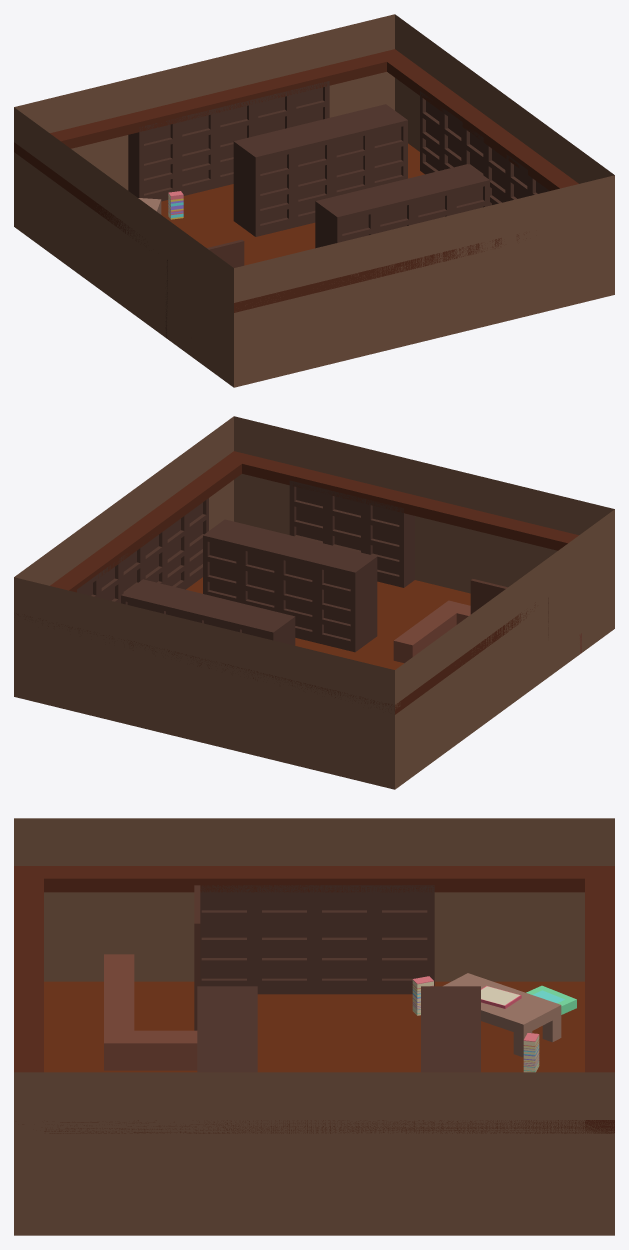
The model's file is Library.fbx.
3 renders of one model, top to bottom at view 1: azimuth 30°, elevation 25°; view 2: azimuth 150°, elevation 25°; view 3: azimuth 270°, elevation 25°, orthographic. The views are drawn at different scales.
Visible parts, largest first — view 1: Plane.002, Plane.001, Plane.003, MiddleBooks.001, NorthBooks, Plane, MiddleBooks, Cube.003, EastBooks, BottomFloor, Cube, Cube.002 (+2 smaller); view 2: Plane.003, Plane.001, Plane.002, MiddleBooks, Plane, SouthBooks, Cube.002, EastBooks, MiddleBooks.001, Cube, BottomFloor, Desk (+3 smaller); view 3: Plane, Plane.001, BottomFloor, WestBooks, Cube.001, Cube.003, Cube.002, Desk, MiddleBooks, MiddleBooks.001, Desk1, Cube (+4 smaller).
Boxes of the visible parts, bbox=[...] form: Plane.002: bbox=[234, 175, 614, 387]; Plane.001: bbox=[14, 107, 233, 387]; Plane.003: bbox=[14, 14, 394, 190]; MiddleBooks.001: bbox=[233, 104, 407, 236]; NorthBooks: bbox=[128, 81, 329, 201]; Plane: bbox=[395, 14, 614, 183]; MiddleBooks: bbox=[315, 164, 489, 248]; Cube.003: bbox=[14, 49, 405, 159]; EastBooks: bbox=[420, 91, 549, 205]; BottomFloor: bbox=[161, 143, 424, 265]; Cube: bbox=[387, 57, 578, 190]; Cube.002: bbox=[234, 233, 526, 312]; Plane.003: bbox=[14, 577, 394, 789]; Plane.001: bbox=[395, 509, 614, 789]; Plane.002: bbox=[234, 416, 614, 593]; MiddleBooks: bbox=[203, 519, 377, 652]; Plane: bbox=[14, 416, 233, 585]; SouthBooks: bbox=[289, 480, 414, 587]; Cube.002: bbox=[223, 451, 578, 550]; EastBooks: bbox=[77, 498, 208, 603]; MiddleBooks.001: bbox=[121, 579, 295, 645]; Cube: bbox=[50, 459, 241, 592]; BottomFloor: bbox=[186, 577, 470, 669]; Desk: bbox=[393, 600, 581, 663]; Plane: bbox=[14, 1072, 614, 1235]; Plane.001: bbox=[14, 818, 614, 981]; BottomFloor: bbox=[44, 981, 584, 1072]; WestBooks: bbox=[200, 885, 434, 994]; Cube.001: bbox=[44, 866, 584, 892]; Cube.003: bbox=[585, 866, 614, 1133]; Cube.002: bbox=[14, 866, 43, 1124]; Desk: bbox=[104, 954, 197, 1070]; MiddleBooks: bbox=[197, 986, 257, 1072]; MiddleBooks.001: bbox=[421, 986, 480, 1072]; Desk1: bbox=[443, 973, 561, 1057]; Cube: bbox=[44, 1120, 584, 1133].
Size of the model in its own units: 1000 by 304 by 1000.
